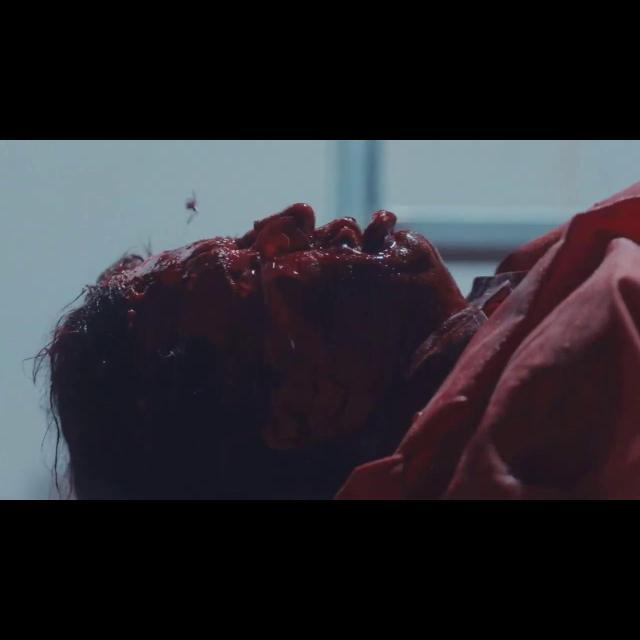blood: (26, 180, 640, 500), (183, 190, 200, 226)
